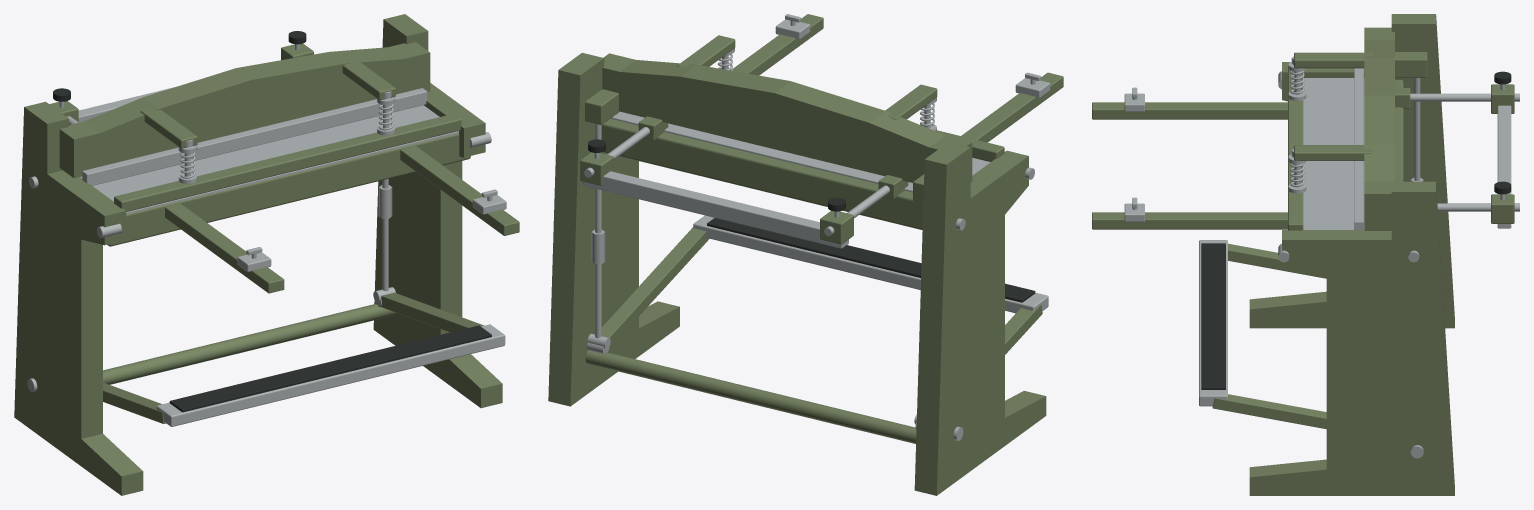
The picture shows the model from 3 angles, left to right: view 1: azimuth 30°, elevation 25°; view 2: azimuth 150°, elevation 25°; view 3: azimuth 270°, elevation 25°; orthographic projection. The views are drawn at different scales.
Parts seen in each view (by area): view 1: Integral floor side frame -1, Original crowned upper crosshead, Integral floor side frame 1, Long horizontal blade bed, Long front hold down beam, Plain steel bed surface, Blunt generic upper shear blade, Treadle textured-grip interpretation, Lower fixed frame cross tie, Full width front treadle, Forward stock support arm -1, Forward stock support arm 1 (+6 smaller); view 2: Integral floor side frame -1, Original crowned upper crosshead, Integral floor side frame 1, Long horizontal blade bed, Lower fixed frame cross tie, Rear stock gauge cross bar, Full width front treadle, Treadle textured-grip interpretation, Treadle lever arm 1, Plain steel bed surface, Forward stock support arm -1, Forward stock support arm 1 (+8 smaller); view 3: Integral floor side frame 1, Integral floor side frame -1, Plain steel bed surface, Original crowned upper crosshead, Treadle textured-grip interpretation, Forward stock support arm -1, Forward stock support arm 1, Treadle lever arm 1, Long front hold down beam, Blunt generic upper shear blade, Rear stock gauge cross bar, Hold down mounting bridge -1 (+10 smaller).
Part boxes in pixels (<box>): Integral floor side frame -1: <box>14,101,143,495</box>; Original crowned upper crosshead: <box>59,42,430,178</box>; Integral floor side frame 1: <box>373,14,502,408</box>; Long horizontal blade bed: <box>107,133,470,246</box>; Long front hold down beam: <box>114,113,461,211</box>; Plain steel bed surface: <box>80,105,458,214</box>; Blunt generic upper shear blade: <box>82,88,427,185</box>; Treadle textured-grip interpretation: <box>169,325,491,412</box>; Lower fixed frame cross tie: <box>103,304,395,384</box>; Full width front treadle: <box>156,324,505,426</box>; Forward stock support arm -1: <box>165,203,284,293</box>; Forward stock support arm 1: <box>400,146,519,235</box>; Integral floor side frame -1: <box>914,142,1046,495</box>; Original crowned upper crosshead: <box>602,53,972,182</box>; Integral floor side frame 1: <box>548,52,679,406</box>; Long horizontal blade bed: <box>601,118,923,229</box>; Lower fixed frame cross tie: <box>585,350,916,443</box>; Rear stock gauge cross bar: <box>583,171,848,248</box>; Full width front treadle: <box>693,215,1048,313</box>; Treadle textured-grip interpretation: <box>707,218,1035,302</box>; Treadle lever arm 1: <box>601,227,709,348</box>; Plain steel bed surface: <box>611,111,990,192</box>; Forward stock support arm -1: <box>961,72,1063,142</box>; Forward stock support arm 1: <box>732,14,823,75</box>; Integral floor side frame 1: <box>1249,181,1454,495</box>; Integral floor side frame -1: <box>1249,14,1454,328</box>; Plain steel bed surface: <box>1303,78,1364,229</box>; Original crowned upper crosshead: <box>1364,27,1394,230</box>; Treadle textured-grip interpretation: <box>1201,243,1225,389</box>; Forward stock support arm -1: <box>1092,102,1287,119</box>; Forward stock support arm 1: <box>1092,212,1287,229</box>; Treadle lever arm 1: <box>1212,394,1326,429</box>; Long front hold down beam: <box>1288,66,1303,230</box>; Blunt generic upper shear blade: <box>1354,68,1363,230</box>; Rear stock gauge cross bar: <box>1497,105,1511,228</box>; Hold down mounting bridge -1: <box>1294,52,1372,68</box>.
Size of the model in its own units: 126 by 101 by 125.
